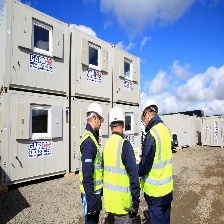helmet: (85, 101, 107, 123), (140, 99, 159, 123), (107, 105, 126, 127)
person: (136, 97, 174, 224), (104, 103, 136, 224), (78, 101, 105, 224)
vest: (103, 136, 133, 214), (79, 132, 103, 192), (150, 129, 172, 194)
